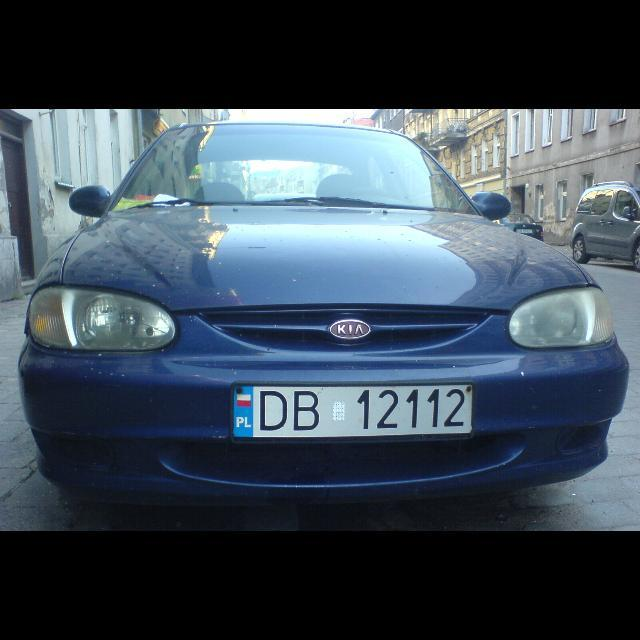license-plates: (233, 386, 473, 439)
